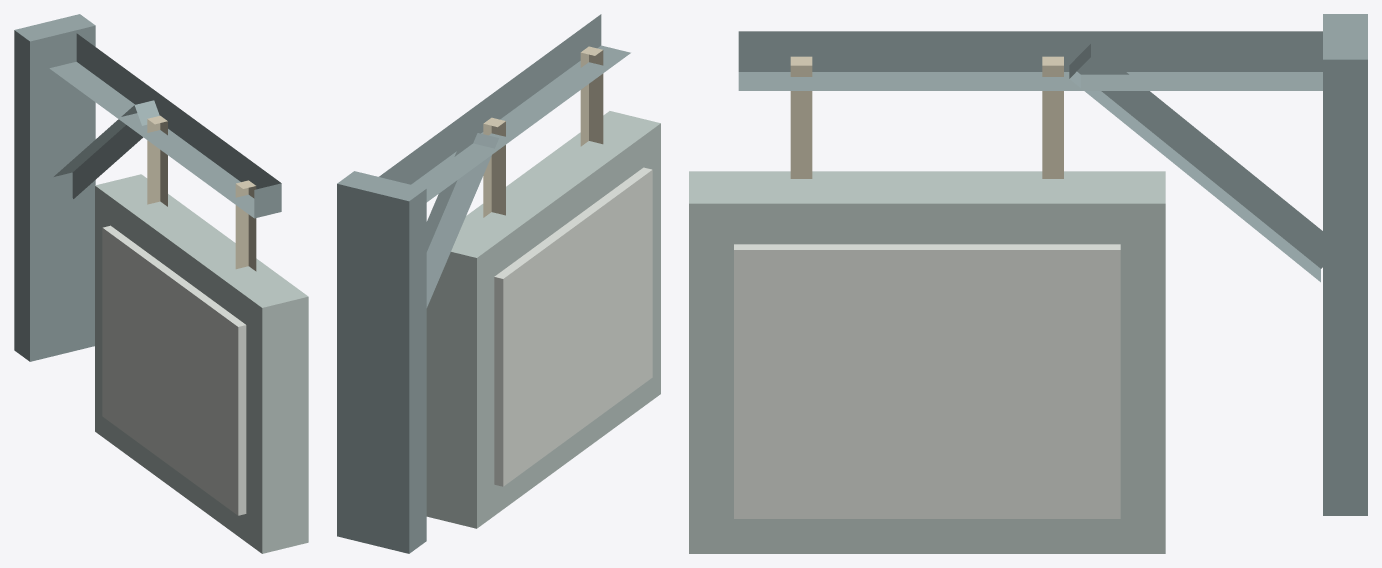
File: hanging.glb
The picture shows the model from 3 angles, left to right: view 1: azimuth 30°, elevation 25°; view 2: azimuth 150°, elevation 25°; view 3: azimuth 270°, elevation 25°; orthographic projection. The views are drawn at different scales.
Visible parts, largest first — view 1: Blank hanging sign; view 2: Blank hanging sign; view 3: Blank hanging sign.
Part boxes in pixels (x1,y1,x2,y2): Blank hanging sign: (14, 14, 308, 553); Blank hanging sign: (337, 14, 660, 553); Blank hanging sign: (689, 14, 1367, 553).
Bounding box in the file's own units: 0.12 × 0.615 × 0.755.
